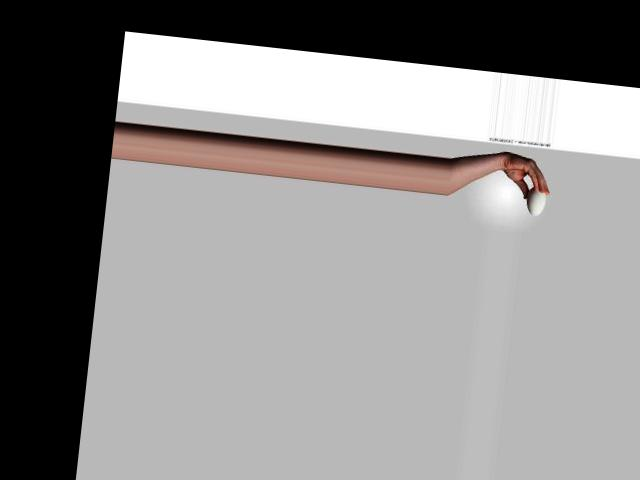egg: (524, 185, 547, 216)
